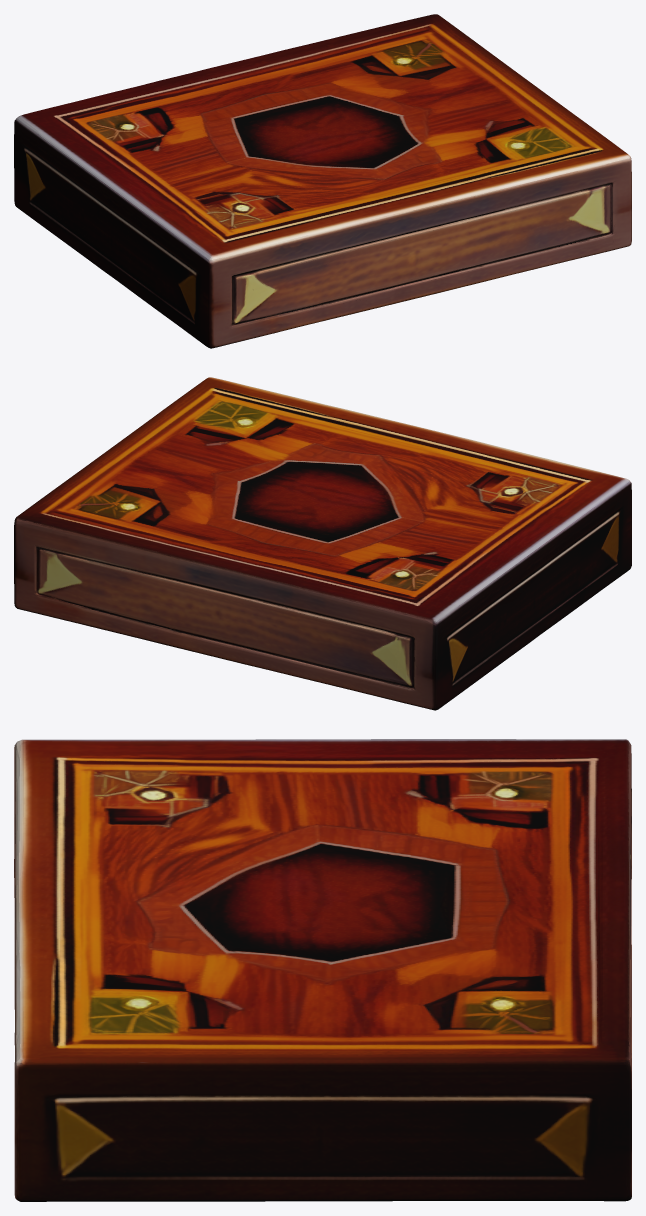
File: wooden-hard-drive-case-art-deco.jpeg.glb
3 renders of one model, top to bottom at view 1: azimuth 30°, elevation 25°; view 2: azimuth 150°, elevation 25°; view 3: azimuth 270°, elevation 25°, orthographic. The views are drawn at different scales.
Visible parts, largest first — view 1: world; view 2: world; view 3: world.
Boxes of the visible parts, x1,y1,x2,y2 form: world: [14, 14, 631, 348]; world: [14, 377, 631, 710]; world: [14, 739, 631, 1201].
Size of the model in its own units: 1 by 0.2082 by 0.8036.
Materials: 1 (1 with a texture image).
